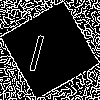I: (25, 25, 51, 73)
